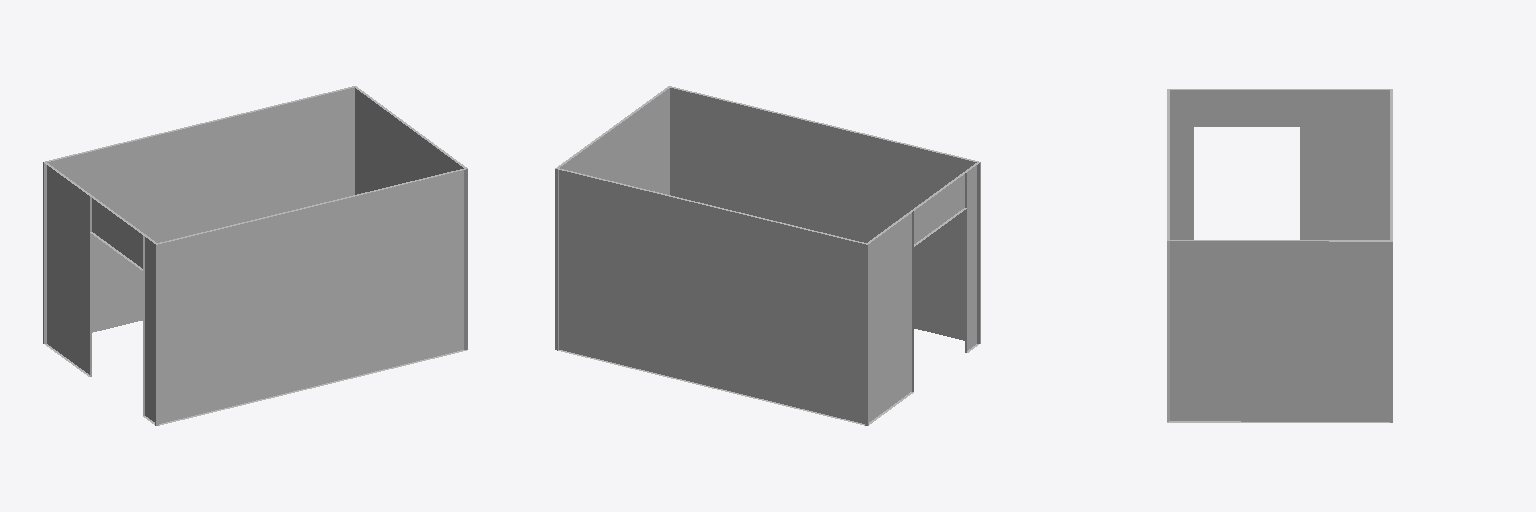
The model's file is housesp_006.obj.
The picture shows the model from 3 angles: view 1: azimuth 30°, elevation 25°; view 2: azimuth 150°, elevation 25°; view 3: azimuth 270°, elevation 25°; orthographic projection.
Bounding box in the file's own units: 451 × 250 × 283.